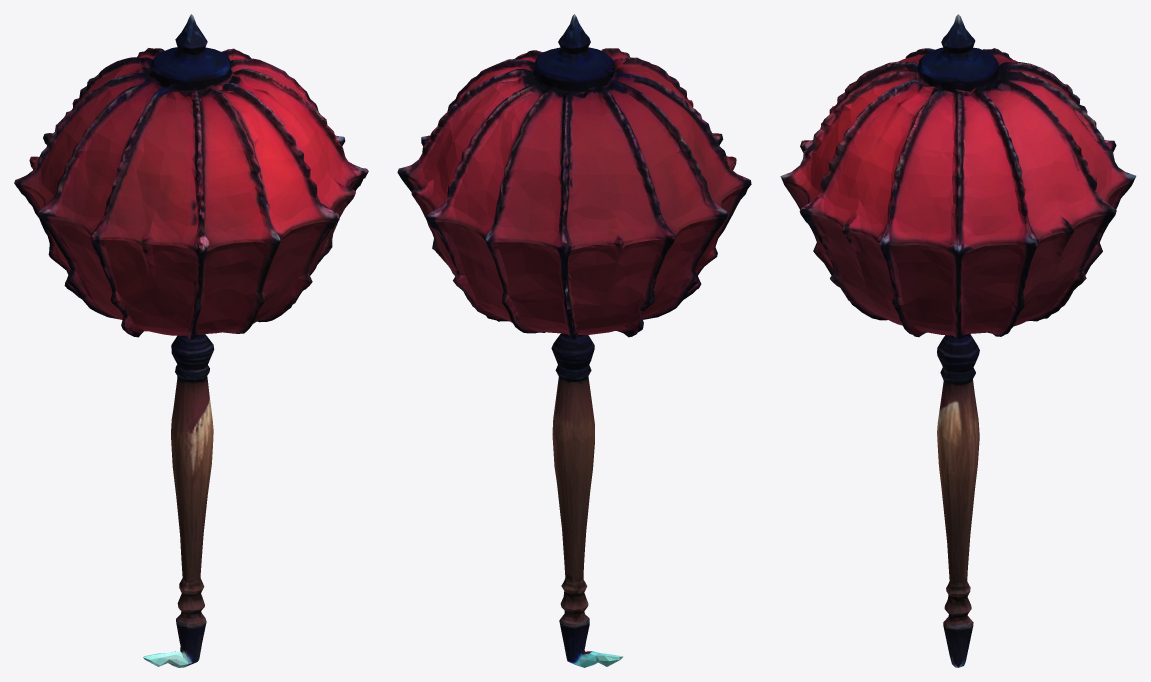
Rendered from parasol.glb.
3 views of the same model, side by side, from view 1: azimuth 30°, elevation 25°; view 2: azimuth 150°, elevation 25°; view 3: azimuth 270°, elevation 25° (orthographic).
Parts seen in each view (by area): view 1: tmpa88ghrnk.ply; view 2: tmpa88ghrnk.ply; view 3: tmpa88ghrnk.ply.
Part boxes in pixels (x1=…): tmpa88ghrnk.ply: x1=14, y1=14, x2=368, y2=667; tmpa88ghrnk.ply: x1=397, y1=14, x2=751, y2=667; tmpa88ghrnk.ply: x1=780, y1=14, x2=1136, y2=667.
Bounding box in the file's own units: 0.9824 × 1.99 × 0.9814.
1 material, 1 textured.
